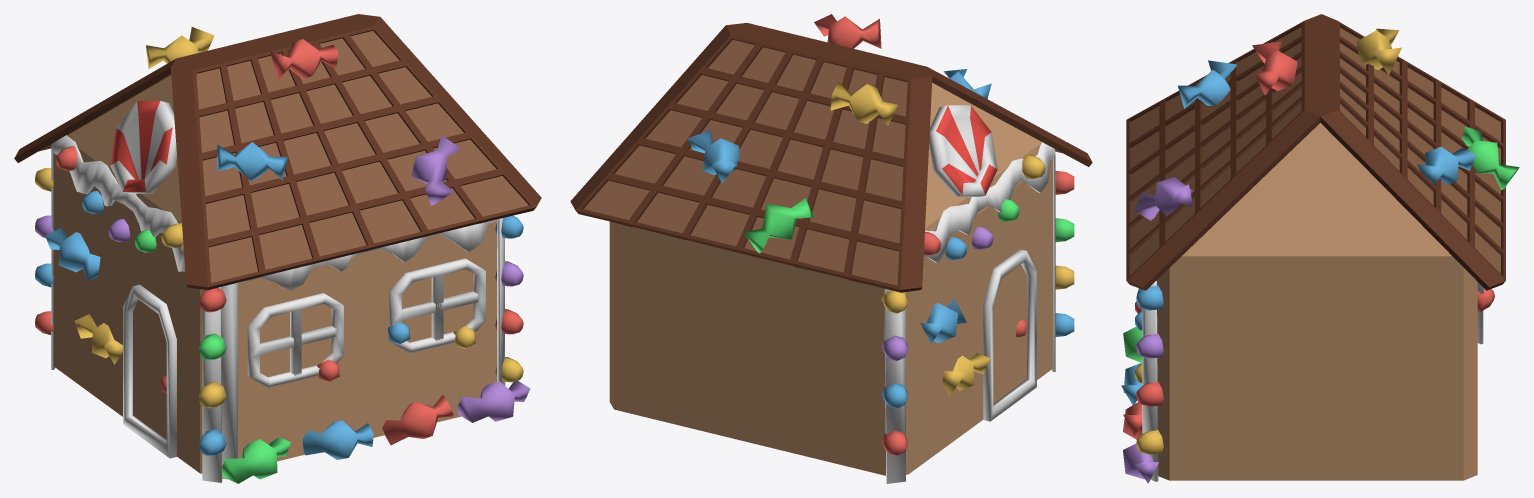
File: House.fbx
3 renders of one model, left to right at view 1: azimuth 30°, elevation 25°; view 2: azimuth 150°, elevation 25°; view 3: azimuth 270°, elevation 25°, orthographic.
Visible parts, largest first — view 1: windows; view 2: windows; view 3: windows.
Boxes of the visible parts, x1,y1,x2,y2 form: windows: [14, 14, 541, 483]; windows: [570, 14, 1092, 483]; windows: [1121, 14, 1519, 483].
Size of the model in its own units: 723 by 709 by 698.
